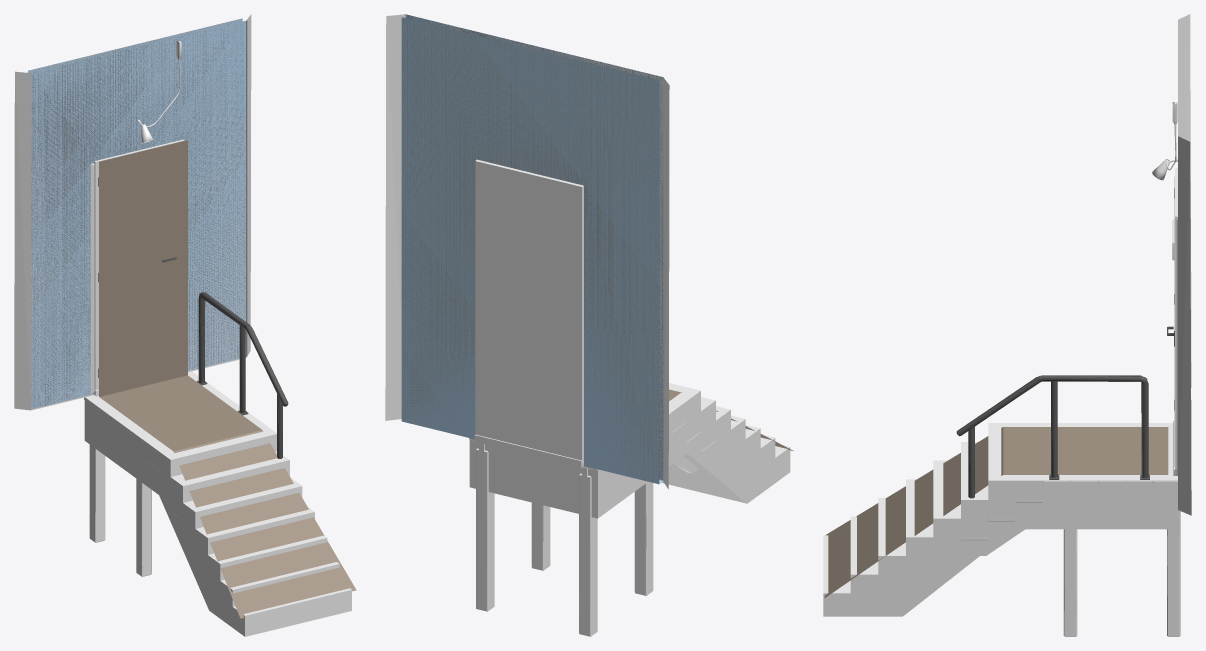
The model's file is si_res_body_door.dae.
3 views of the same model, side by side, from view 1: azimuth 30°, elevation 25°; view 2: azimuth 150°, elevation 25°; view 3: azimuth 270°, elevation 25° (orthographic). The views are drawn at different scales.
Parts seen in each view (by area): view 1: si_res_body_door_a10, si_res_body_door_a400, Colmesh-1, si_res_body_door_a60; view 2: si_res_body_door_a400, si_res_body_door_a10, Colmesh-1; view 3: Colmesh-1, si_res_body_door_a10, si_res_body_door_a400, si_res_body_door_a60.
Boxes of the visible parts, bbox=[...] form: si_res_body_door_a10: bbox=[28, 19, 356, 618]; si_res_body_door_a400: bbox=[28, 18, 288, 576]; Colmesh-1: bbox=[14, 14, 351, 636]; si_res_body_door_a60: bbox=[94, 139, 285, 576]; si_res_body_door_a400: bbox=[401, 14, 715, 636]; si_res_body_door_a10: bbox=[401, 14, 793, 483]; Colmesh-1: bbox=[385, 14, 790, 518]; Colmesh-1: bbox=[823, 14, 1191, 616]; si_res_body_door_a10: bbox=[824, 427, 1168, 597]; si_res_body_door_a400: bbox=[956, 102, 1180, 636]; si_res_body_door_a60: bbox=[956, 168, 1179, 636].
Size of the model in its own units: 2.2 by 2.68 by 4.28.
